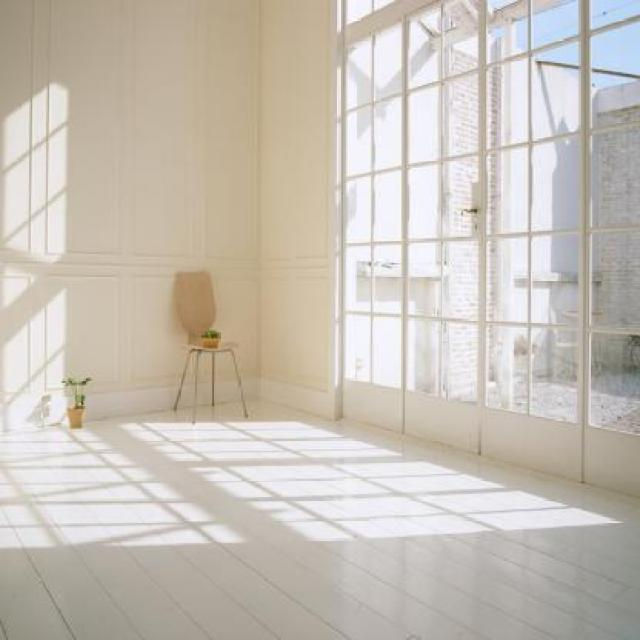Floor: (0, 397, 640, 640)
